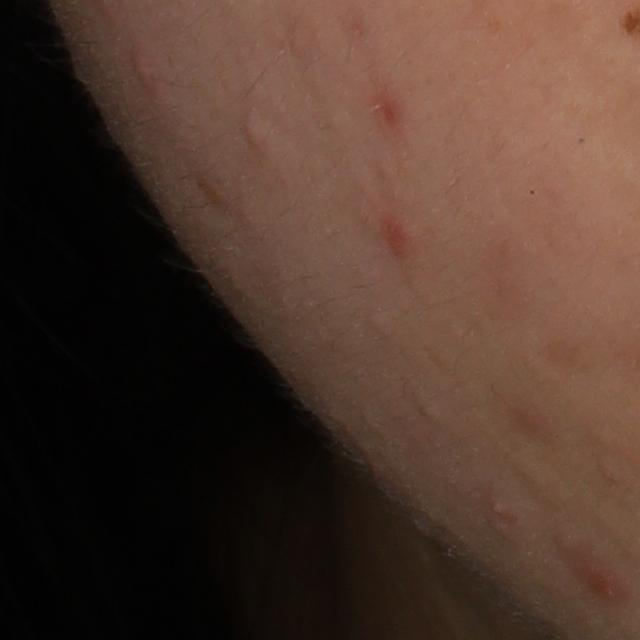comedo: (241, 111, 270, 153), (367, 313, 401, 337)
papule: (569, 559, 633, 602), (382, 213, 409, 256), (131, 47, 158, 89), (487, 498, 507, 519)
